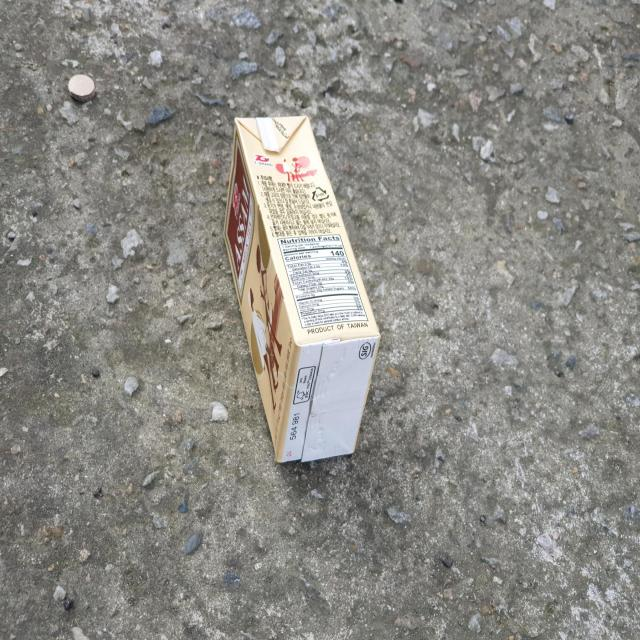paperpack: (224, 115, 380, 462)
